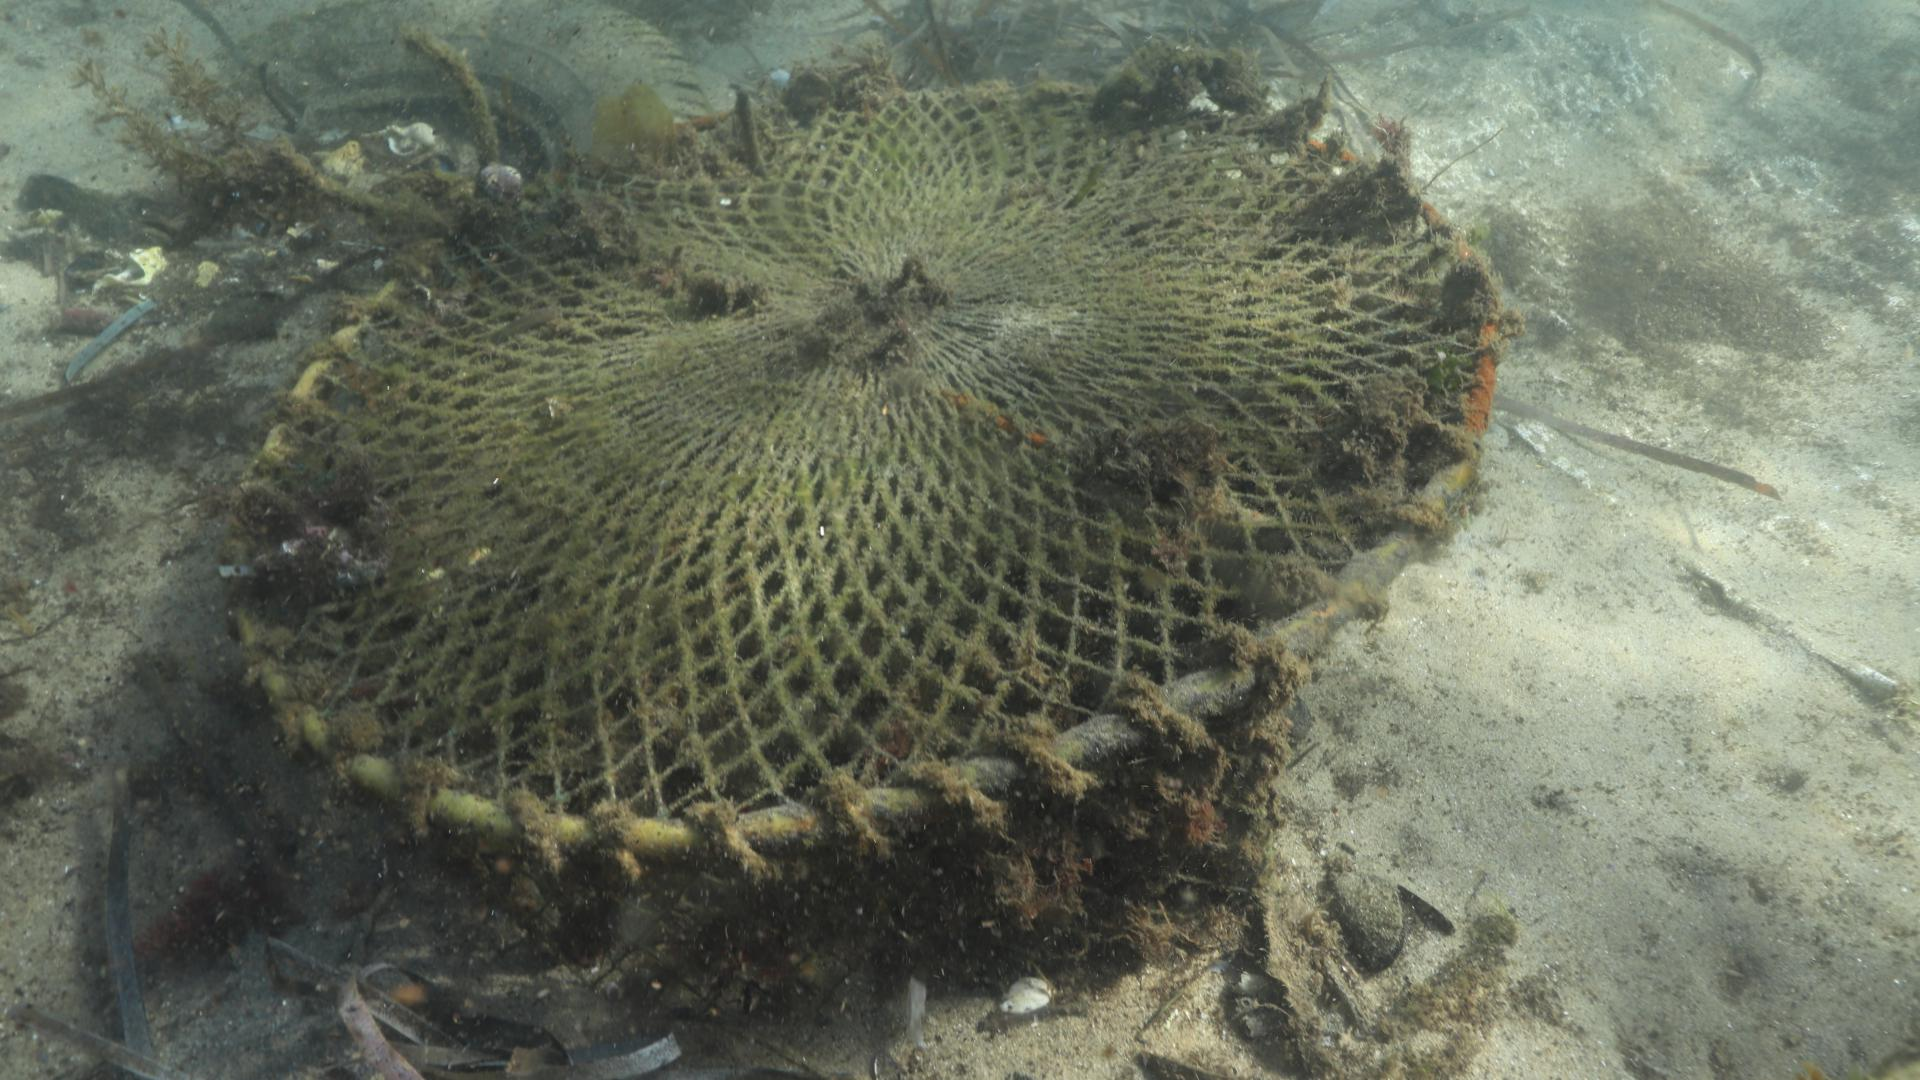circular fish trap: (227, 80, 1505, 924)
